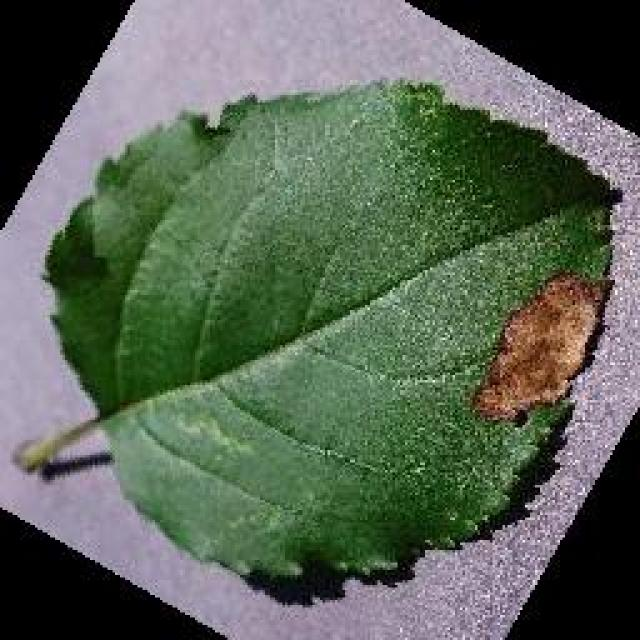Black_rot: (20, 75, 622, 583)
